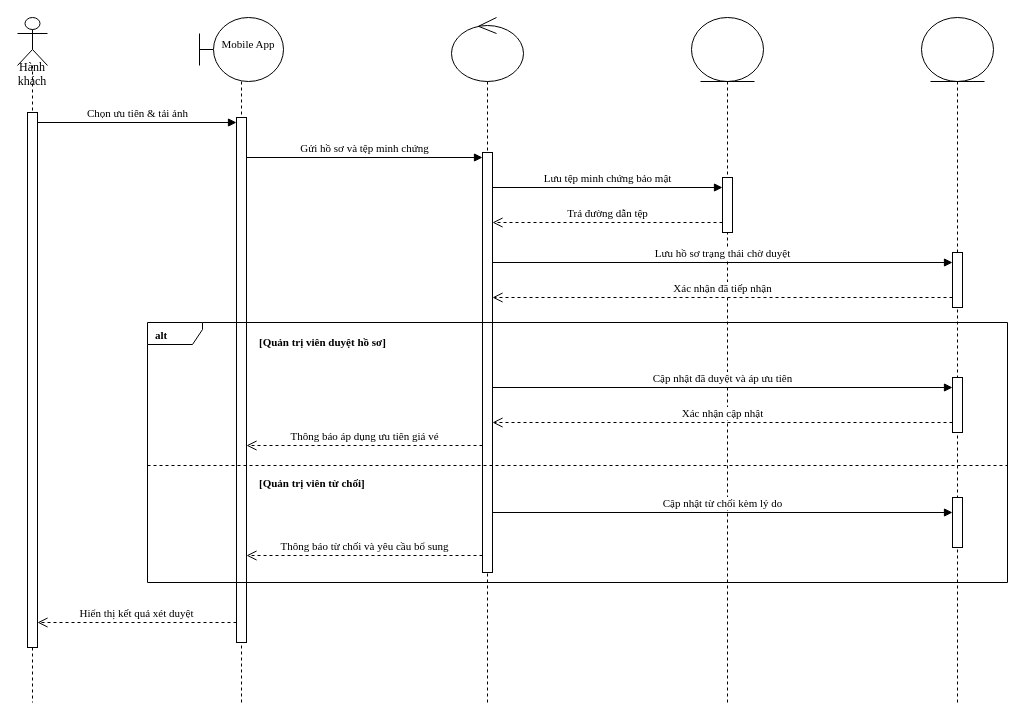
The diagram is 1026 pixels wide and 720 high, and some of its shapes have lost their labels. The box of each missing label's shape, as (x1, y1, x2, y2) in pixels:
Cloudinary: (690, 16, 764, 702)
Server: (450, 16, 524, 702)
SQL Server: (920, 16, 994, 702)
